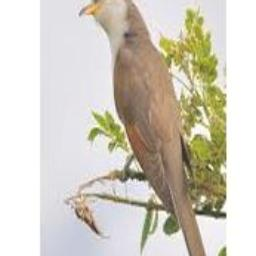Cuckoo: (80, 0, 220, 256)
